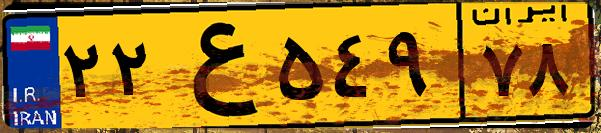2: (57, 26, 110, 100), (110, 28, 158, 98)
4: (330, 28, 385, 110)
5: (270, 28, 330, 110)
7: (475, 38, 525, 113)
8: (525, 38, 570, 115)
9: (385, 28, 445, 110)
ع: (158, 12, 270, 120)
